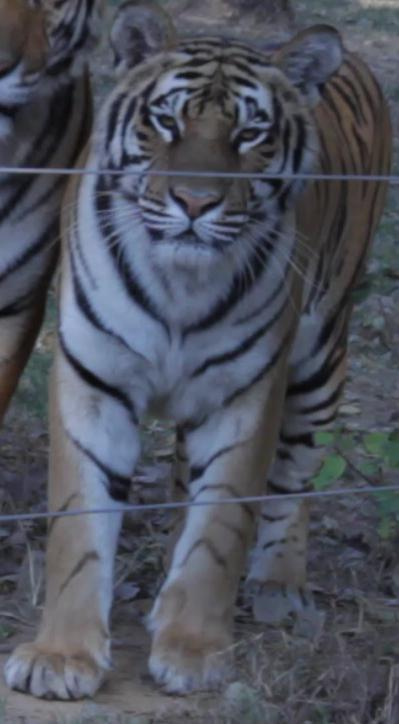tiger: (48, 2, 391, 693), (6, 514, 122, 699)
